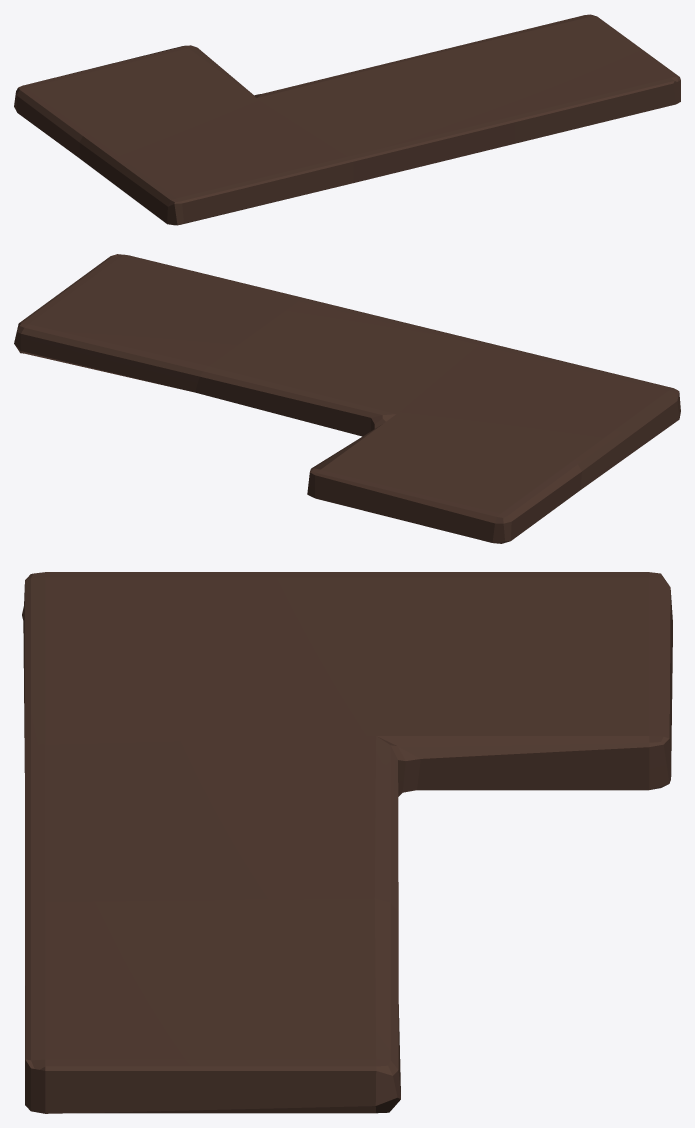
File: SM_Prop_Podium_02.fbx
3 renders of one model, top to bottom at view 1: azimuth 30°, elevation 25°; view 2: azimuth 150°, elevation 25°; view 3: azimuth 270°, elevation 25°, orthographic. The views are drawn at different scales.
Parts seen in each view (by area): view 1: Cube; view 2: Cube; view 3: Cube.
Boxes of the visible parts, left/top/right/bottom form: Cube: left=14, top=14, right=680, bottom=225; Cube: left=14, top=254, right=680, bottom=543; Cube: left=22, top=572, right=672, bottom=1113.
Size of the model in its own units: 640 by 33.53 by 350.
1 material, 1 textured.
